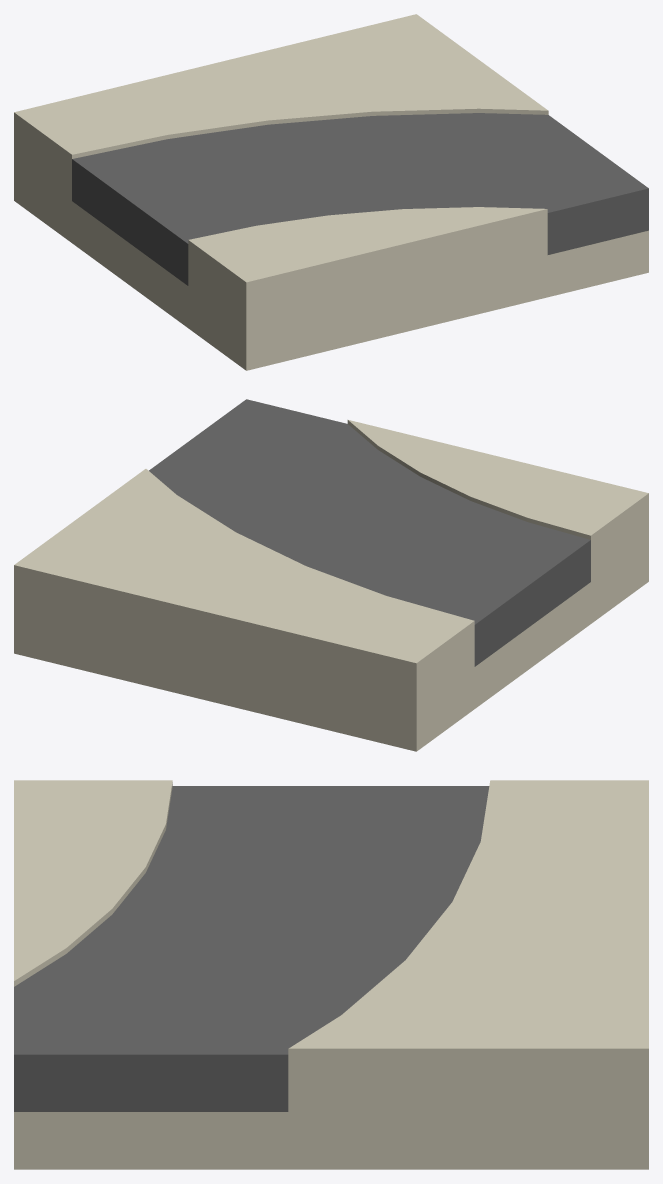
Rendered from tile019.fbx.
3 renders of one model, top to bottom at view 1: azimuth 30°, elevation 25°; view 2: azimuth 150°, elevation 25°; view 3: azimuth 270°, elevation 25°, orthographic. The views are drawn at different scales.
Parts seen in each view (by area): view 1: tile019; view 2: tile019; view 3: tile019.
Boxes of the visible parts, x1,y1,x2,y2 form: tile019: (14,14,648,370); tile019: (14,399,648,751); tile019: (14,780,648,1169).
Size of the model in its own units: 10 by 2.1 by 10.
